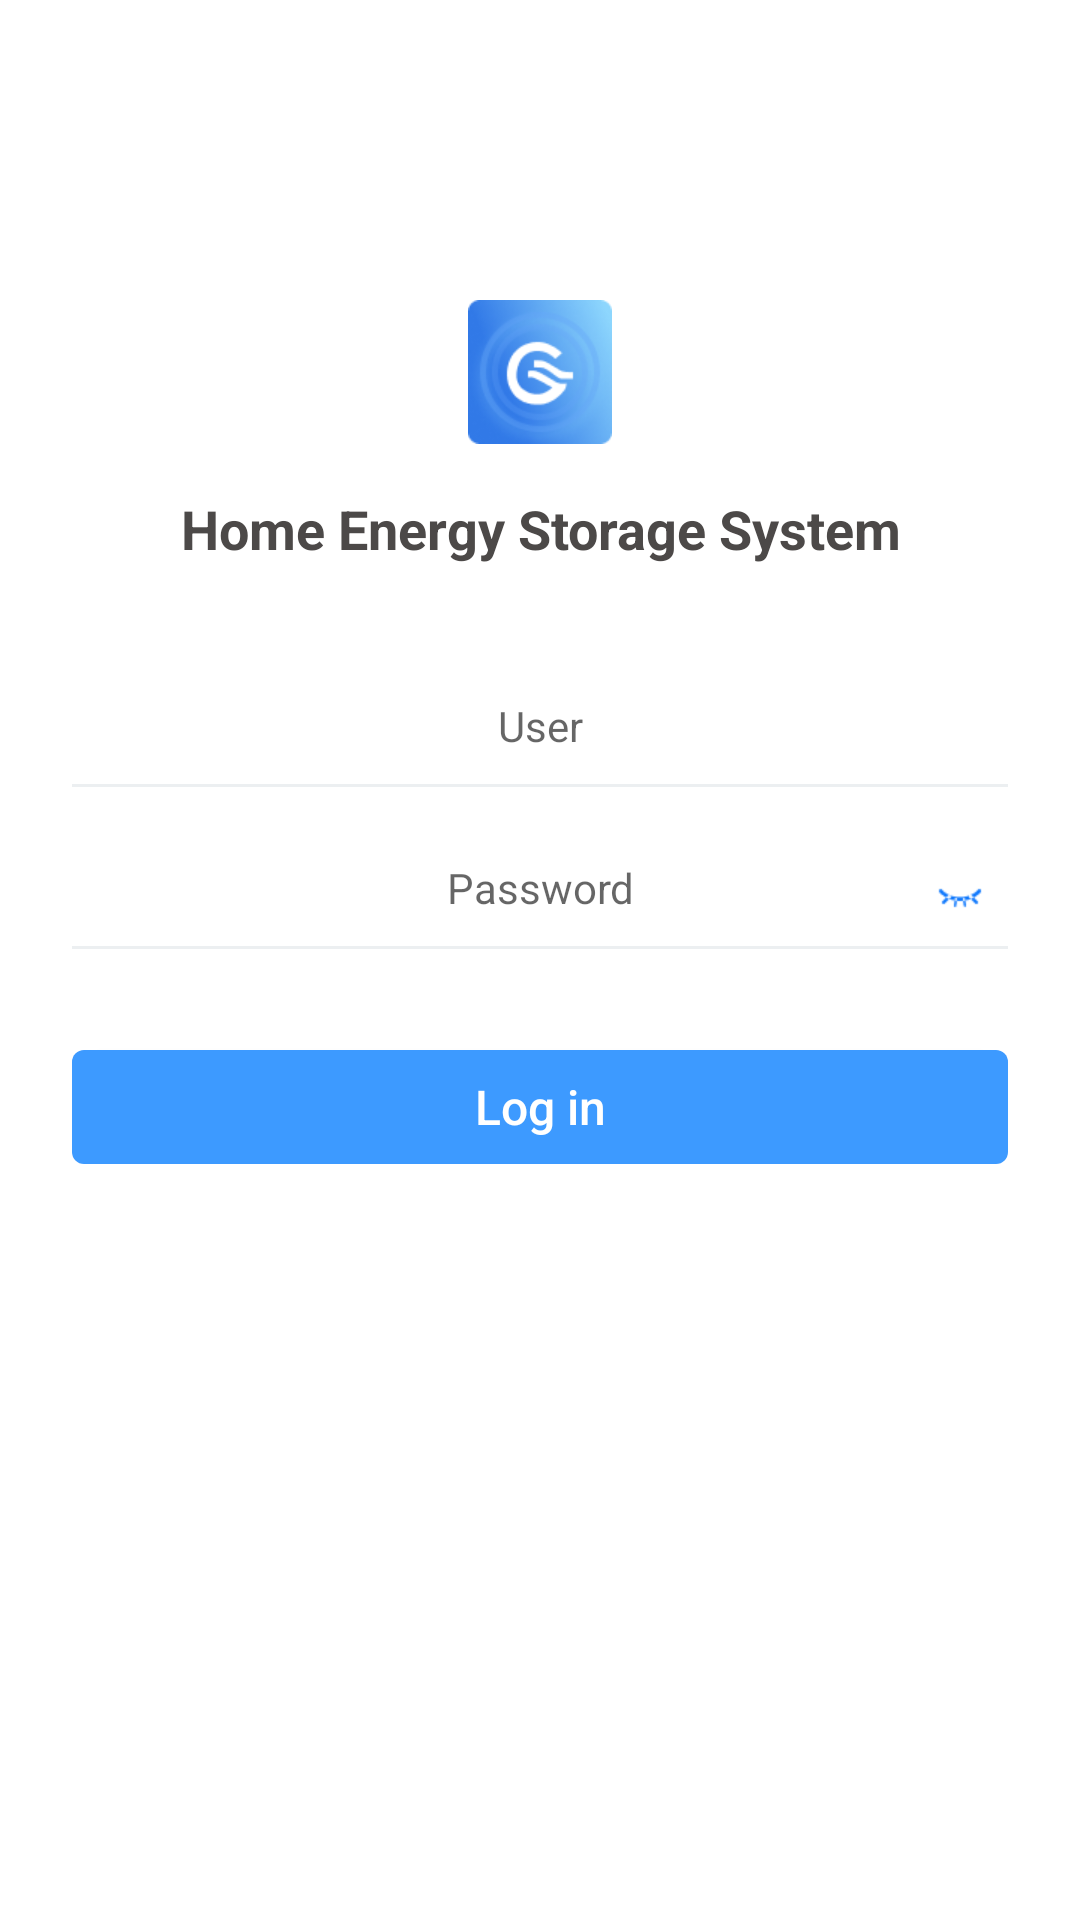

Locate icon controls on the screen. Image size 1080 × 1920, boxes as [x1=x1, y1=y1, x2=x2, y2=y2].
eye close: [x1=938, y1=888, x2=982, y2=908]
